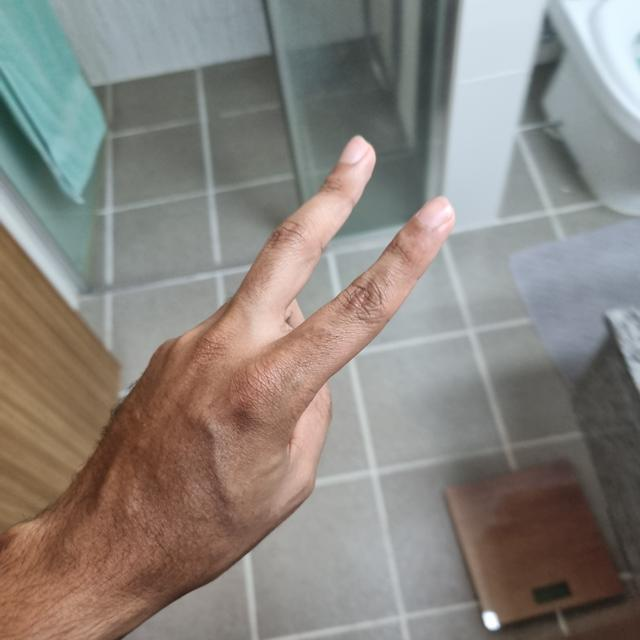Scissors: (73, 134, 453, 593)
